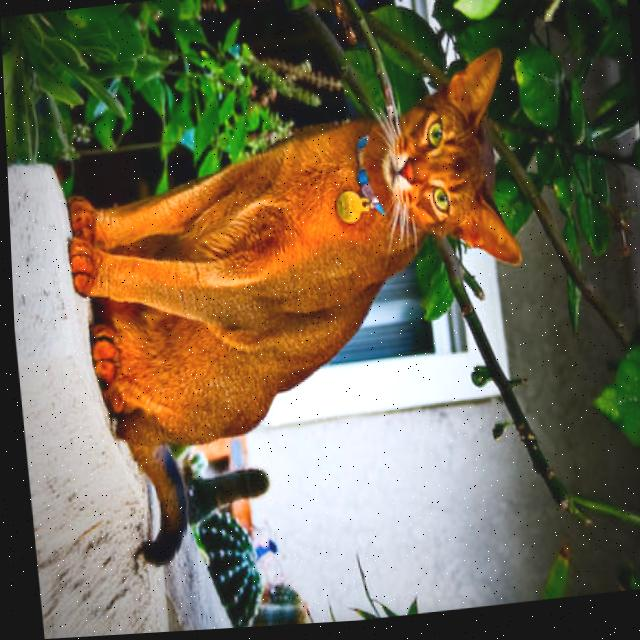Abyssinian: (47, 46, 548, 577)
